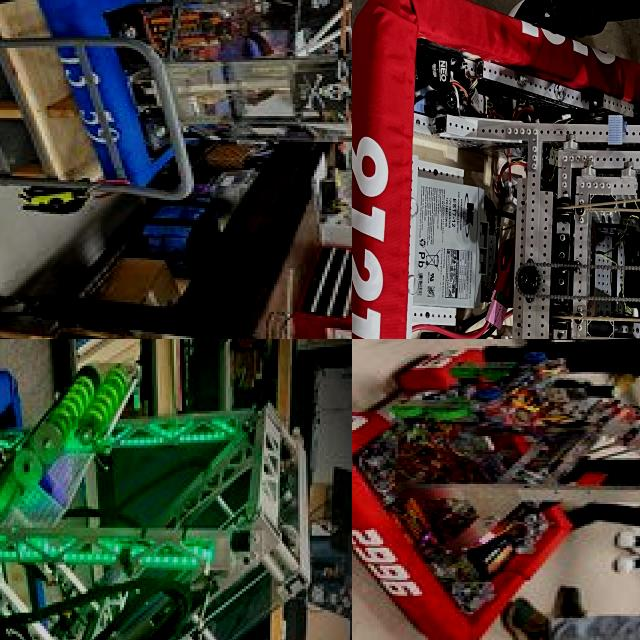FRC-Robots: (352, 0, 640, 339), (0, 339, 303, 640), (352, 339, 640, 640), (103, 0, 352, 215)
